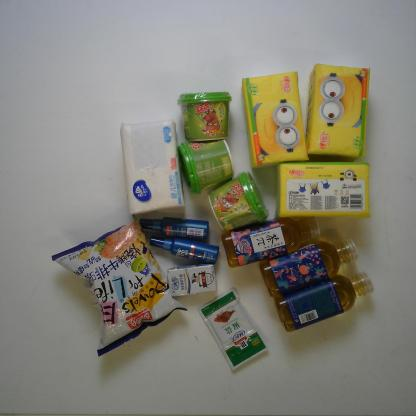Drink: (258, 238, 360, 300), (274, 273, 374, 335), (221, 211, 323, 269)
Instant Drink: (207, 172, 270, 235), (174, 83, 237, 145), (176, 132, 235, 196)
Milk: (164, 264, 218, 299)
Personal Hygiene: (147, 233, 218, 265), (137, 212, 212, 242)
Puffed Food: (50, 222, 188, 362)
Seasoner: (194, 285, 266, 372)
Tissue: (115, 115, 190, 220), (238, 68, 312, 171), (303, 59, 375, 160), (272, 153, 374, 220)
